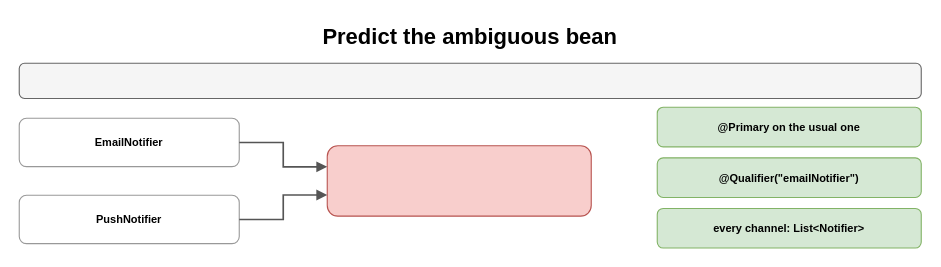
The diagram is 941 pixels wide and 267 high, and some of its shapes have lost their labels. Each missing label, with the box of its shape:
One Notifier parameter, two matching beans: (18, 62, 921, 98)
OverdueService( Notifier notifier): (326, 145, 591, 216)
